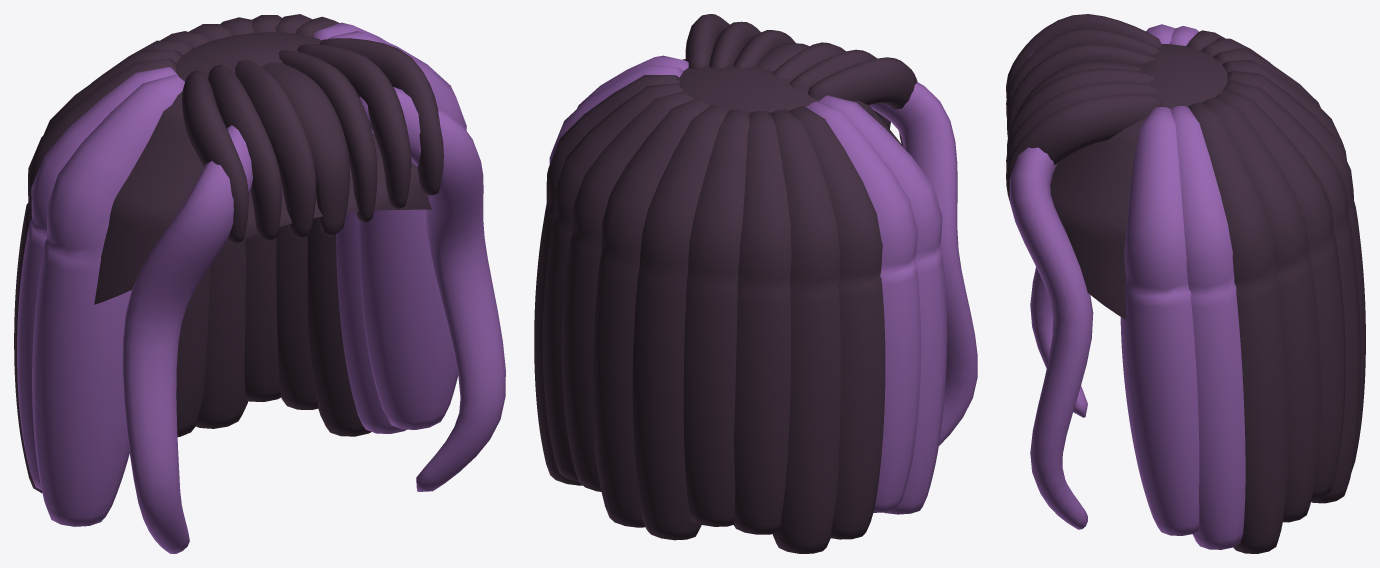
The model's file is studio_straight_long_short.glb.
The picture shows the model from 3 angles, left to right: view 1: azimuth 30°, elevation 25°; view 2: azimuth 150°, elevation 25°; view 3: azimuth 270°, elevation 25°; orthographic projection. The views are drawn at different scales.
Parts seen in each view (by area): view 1: straight_long; view 2: straight_long; view 3: straight_long.
Boxes of the visible parts, left/top/right/bottom form: straight_long: left=14, top=14, right=505, bottom=553; straight_long: left=534, top=14, right=977, bottom=553; straight_long: left=1006, top=14, right=1365, bottom=553.
Size of the model in its own units: 0.5639 by 0.5842 by 0.445.
